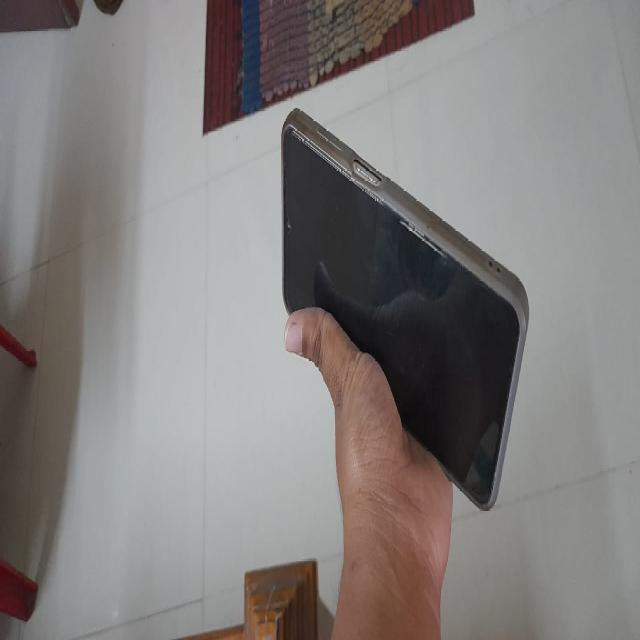Mobile - Recyclable: (274, 104, 534, 528)
